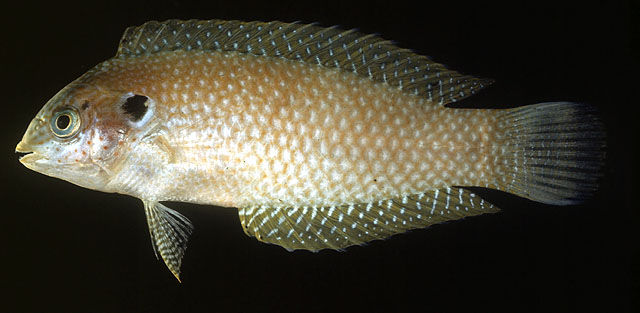fish: (16, 19, 604, 285)
